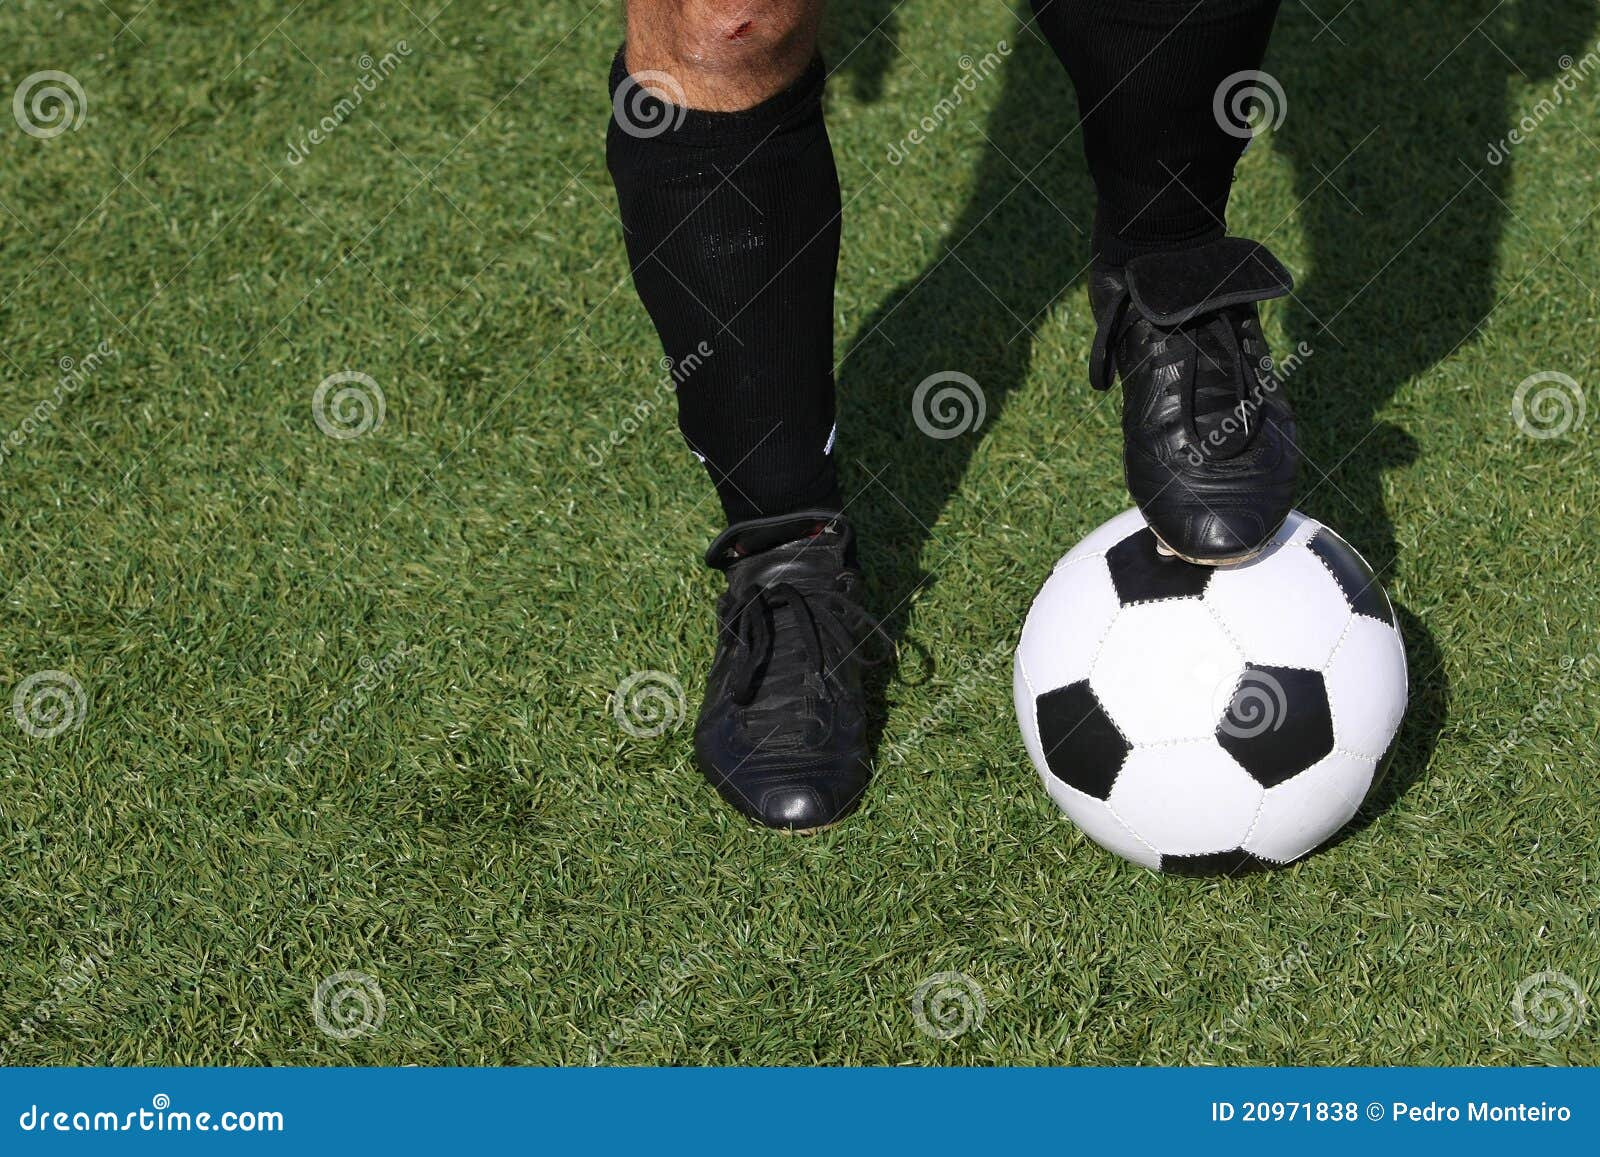football boots: (1087, 239, 1299, 563), (702, 524, 870, 836)
